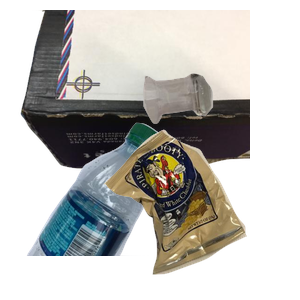cardboard: (18, 10, 258, 171)
glass: (141, 71, 300, 187)
plastic: (24, 120, 182, 300)
trash: (101, 127, 300, 300)
